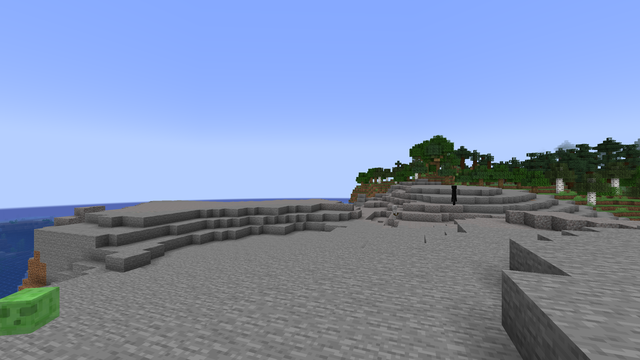endermens: (451, 184, 456, 204)
slimes: (3, 284, 58, 338)
squelettes: (392, 205, 396, 219)
